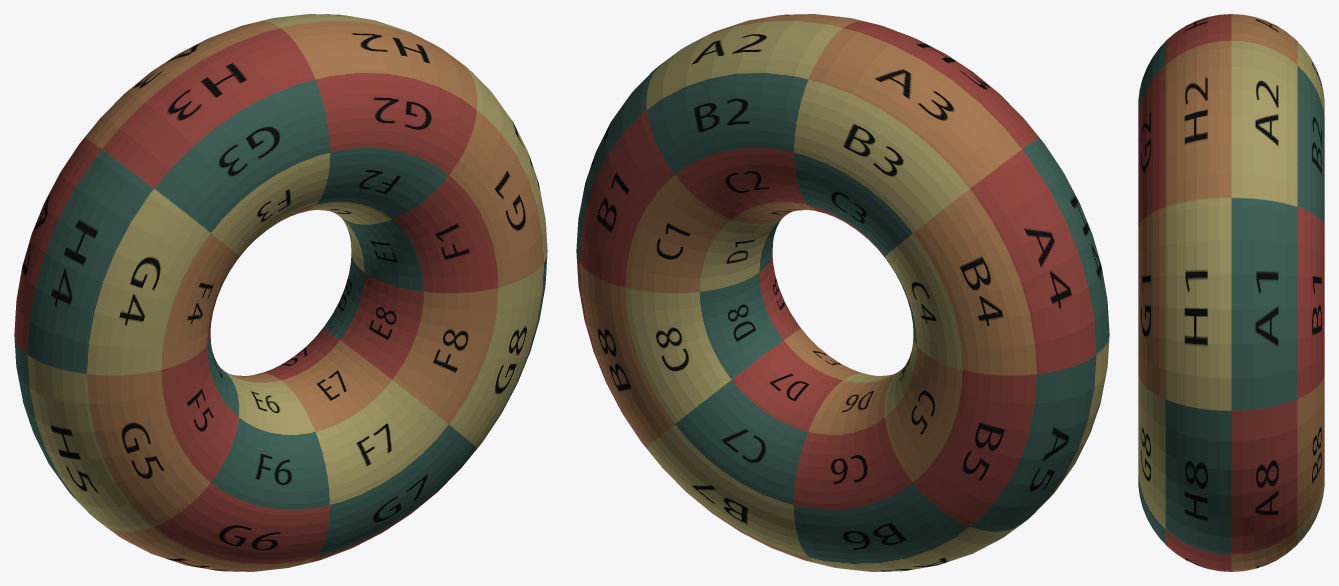
The model's file is texture_torus_R10_r24.glb.
3 views of the same model, side by side, from view 1: azimuth 30°, elevation 25°; view 2: azimuth 150°, elevation 25°; view 3: azimuth 270°, elevation 25° (orthographic). The views are drawn at different scales.
Visible parts, largest first — view 1: world; view 2: world; view 3: world.
Boxes of the visible parts, left/top/right/bottom form: world: left=14, top=14, right=547, bottom=571; world: left=576, top=14, right=1109, bottom=571; world: left=1138, top=14, right=1324, bottom=571.
Size of the model in its own units: 25.07 by 25.02 by 8.38.
Materials: 1 (1 with a texture image).
